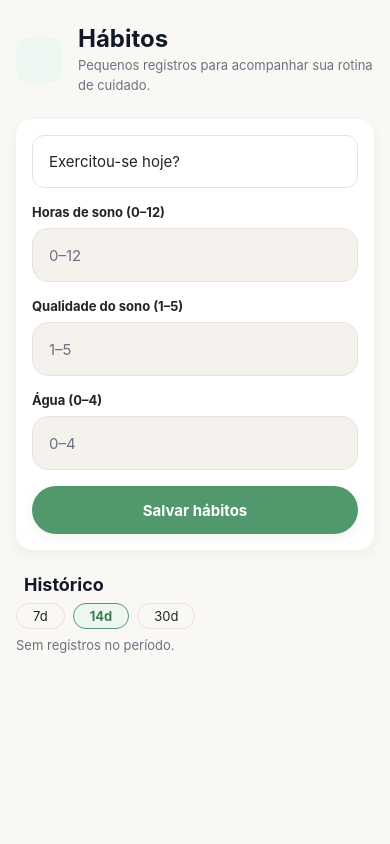
Tela de Hábitos › campo numérico ignora caracteres não numéricos
The image size is (390, 844).
Check: the element with test id "habits.form" is shown, box [16,119,374,550]
In the field with test id "habits.form.water": (195, 443) [49,417,341,469], type "a3b"
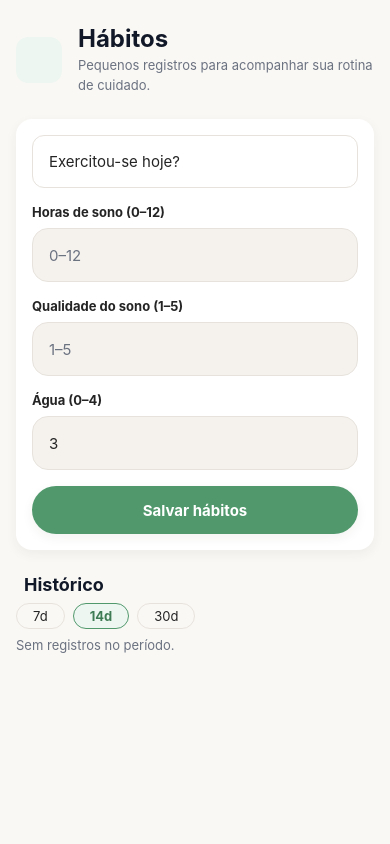
Check: the field with test id "habits.form.water" holds "3", box [49,417,341,469]
